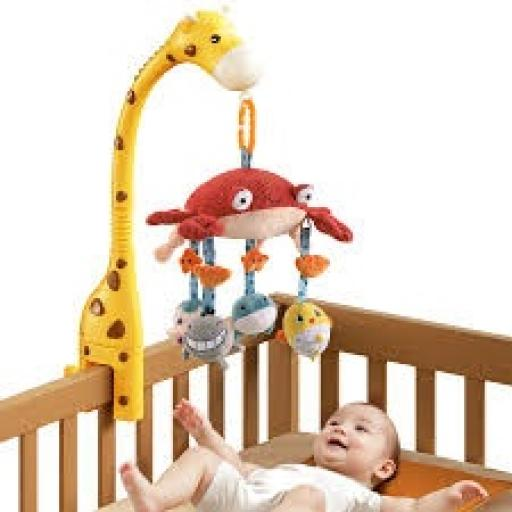baby: (121, 401, 486, 511)
crib: (0, 293, 512, 512)
